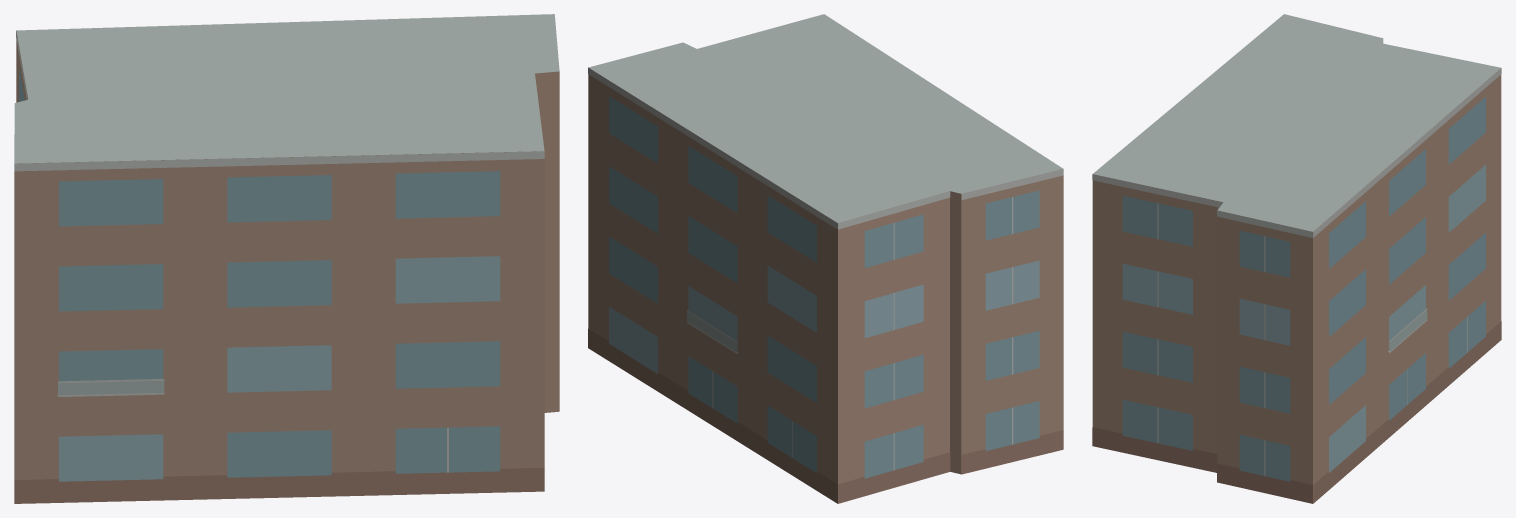
Rendered from survey-upis-32782572.glb.
3 views of the same model, side by side, from view 1: azimuth 30°, elevation 25°; view 2: azimuth 150°, elevation 25°; view 3: azimuth 270°, elevation 25° (orthographic). The views are drawn at different scales.
Parts seen in each view (by area): view 1: survey-upis-32782572.tmp; view 2: survey-upis-32782572.tmp; view 3: survey-upis-32782572.tmp.
Part boxes in pixels (x1,y1,x2,y2): survey-upis-32782572.tmp: [14, 14, 559, 503]; survey-upis-32782572.tmp: [588, 14, 1063, 503]; survey-upis-32782572.tmp: [1092, 14, 1501, 503].
Bounding box in the file's own units: 18.21 × 10.6 × 14.45.
